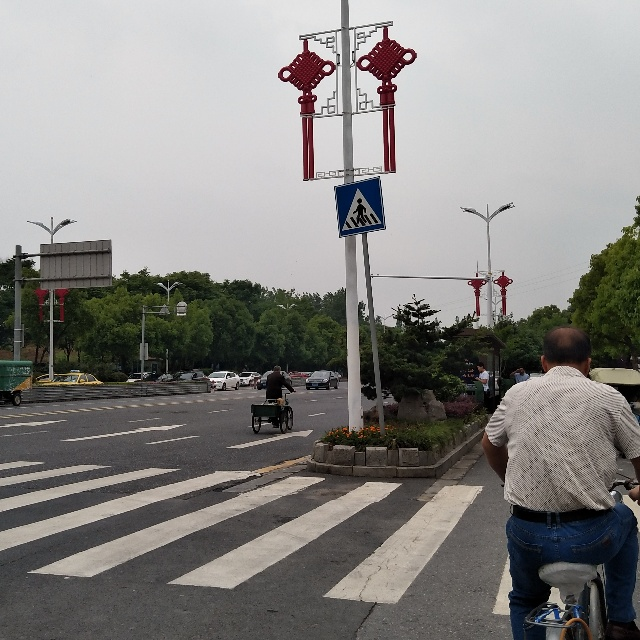crosswalk: (338, 185, 380, 232)
